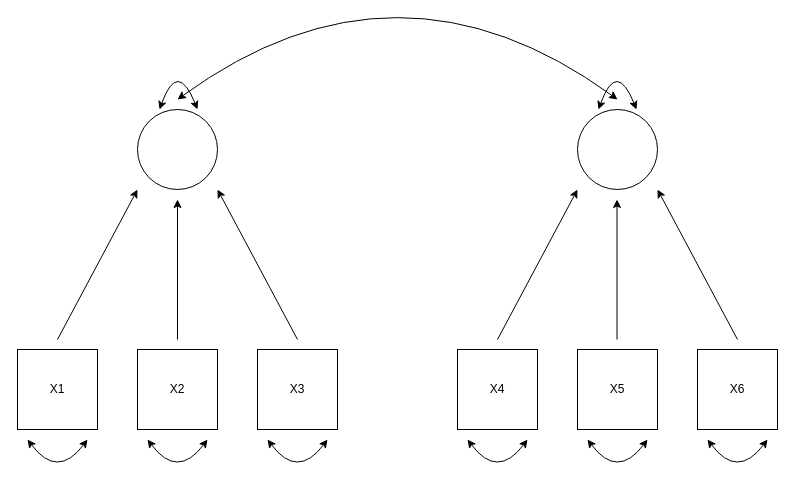
Some shapes in this 795 by 480 pixel diagram are drawn without their labels. The centre of each missing label's shape, as x and y in pixels:
"F1" goes at [177,149].
"F2" goes at [617,149].
